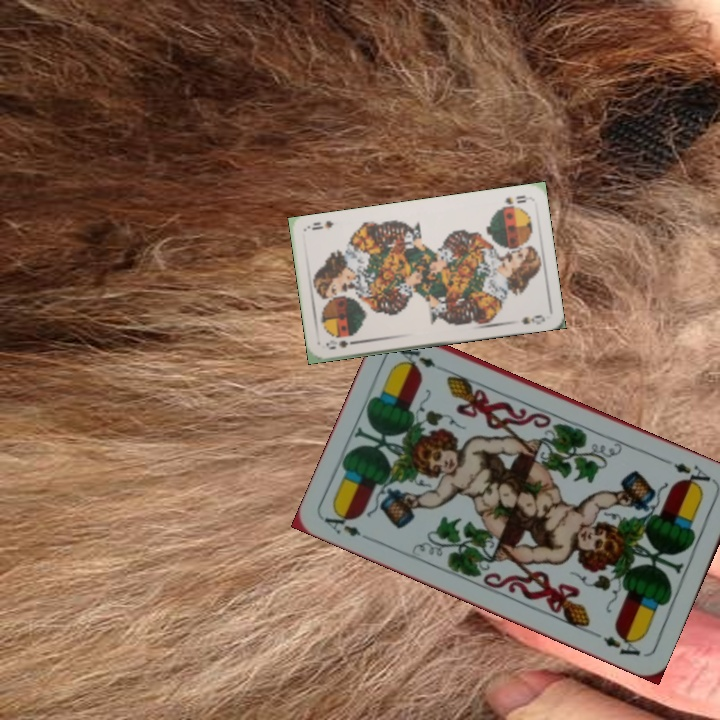EA: (320, 507, 377, 545), (669, 459, 718, 492)
SO: (497, 191, 531, 210), (322, 336, 361, 352)
